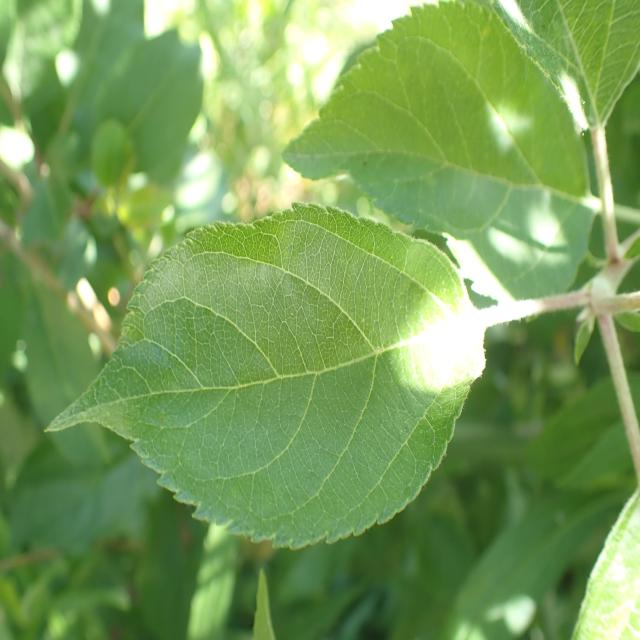healthy: (44, 202, 488, 550), (281, 1, 598, 303), (491, 0, 640, 136), (570, 486, 640, 640)
